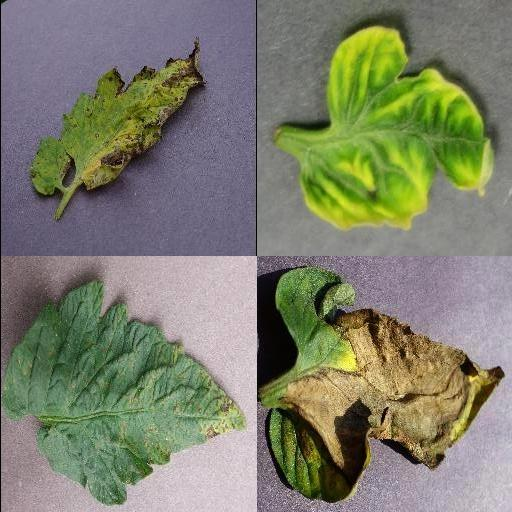Late Blight: (267, 267, 505, 505)
Septoria: (1, 279, 247, 507), (31, 48, 201, 196)
Yellow Leaf Curl Virus: (296, 25, 494, 233)
